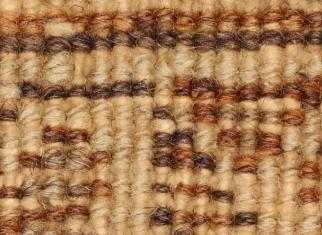Knot: (191, 133, 216, 152), (257, 63, 280, 82), (64, 114, 89, 131), (128, 169, 153, 186), (193, 92, 216, 110), (17, 52, 41, 69), (44, 69, 71, 84), (193, 116, 216, 133), (232, 197, 257, 212), (42, 193, 64, 210), (128, 191, 150, 208), (19, 99, 41, 116), (87, 199, 109, 216), (259, 47, 282, 63), (91, 133, 112, 150), (259, 116, 280, 133), (41, 169, 62, 186), (127, 216, 148, 233), (132, 48, 153, 65), (232, 157, 257, 171), (41, 112, 64, 127), (66, 95, 89, 110), (232, 171, 255, 186), (46, 52, 69, 67), (44, 20, 64, 37), (89, 99, 109, 116), (112, 116, 132, 133), (62, 216, 82, 233), (214, 157, 234, 174), (300, 135, 320, 152), (21, 122, 41, 139), (237, 16, 259, 31), (134, 16, 153, 33), (277, 201, 296, 218), (110, 47, 130, 63), (259, 97, 280, 112), (89, 22, 110, 37), (66, 131, 87, 146), (66, 152, 87, 167), (41, 84, 62, 99), (91, 116, 112, 131), (280, 16, 302, 30), (171, 63, 193, 77), (155, 16, 173, 33), (21, 195, 39, 212), (173, 95, 191, 112), (239, 52, 257, 69), (173, 193, 191, 210), (280, 133, 298, 150), (282, 45, 300, 62), (216, 69, 234, 86), (257, 182, 275, 199), (237, 116, 257, 131), (21, 20, 41, 35), (237, 69, 257, 84), (19, 35, 39, 50), (259, 80, 279, 95), (282, 30, 302, 45), (132, 65, 152, 80), (255, 218, 275, 233), (173, 154, 193, 169), (257, 165, 277, 180), (216, 50, 236, 65), (110, 65, 130, 80), (295, 221, 320, 233), (193, 33, 214, 47), (42, 129, 64, 142), (257, 141, 279, 154), (152, 152, 171, 167), (261, 30, 280, 45), (150, 210, 169, 225), (41, 218, 60, 233), (109, 201, 128, 216), (155, 33, 175, 47), (112, 16, 132, 30), (64, 203, 89, 214), (152, 118, 173, 131), (234, 212, 255, 225), (21, 1, 37, 18), (134, 116, 150, 133), (175, 16, 193, 31), (21, 139, 39, 154), (134, 95, 152, 110), (21, 84, 39, 99), (69, 169, 87, 184), (134, 135, 152, 150), (66, 1, 84, 16), (175, 135, 193, 150), (239, 84, 257, 99), (175, 116, 193, 131), (46, 37, 64, 52), (212, 199, 230, 214), (71, 37, 89, 52), (214, 174, 232, 189), (280, 152, 298, 167), (153, 135, 171, 150), (112, 95, 130, 110), (91, 84, 109, 99), (218, 131, 236, 146), (196, 48, 214, 63), (112, 135, 130, 150), (21, 218, 39, 233), (132, 148, 150, 163), (109, 218, 127, 233), (280, 167, 298, 182), (193, 63, 212, 77), (152, 63, 171, 77), (216, 18, 236, 31), (42, 154, 62, 167), (89, 71, 109, 84), (94, 52, 109, 69), (66, 184, 89, 195), (302, 110, 320, 124), (112, 31, 130, 45), (280, 112, 300, 124), (218, 114, 234, 129), (153, 193, 169, 208), (282, 95, 298, 110), (200, 1, 216, 16), (1, 172, 16, 188), (175, 33, 191, 48), (275, 221, 295, 233), (112, 184, 128, 199), (91, 218, 107, 233), (21, 171, 37, 186), (71, 52, 85, 69), (196, 18, 214, 31), (239, 99, 257, 112), (91, 184, 109, 197), (300, 201, 318, 214), (239, 35, 257, 48), (237, 141, 255, 154), (153, 94, 171, 107), (300, 94, 318, 107), (112, 82, 130, 95), (91, 37, 109, 50), (132, 82, 150, 95), (216, 99, 234, 112), (46, 5, 64, 18), (257, 201, 275, 214), (110, 169, 128, 182), (261, 18, 280, 30), (193, 157, 212, 169), (153, 169, 168, 184), (178, 169, 193, 184), (94, 167, 109, 182), (305, 30, 320, 45), (194, 171, 209, 186), (94, 152, 109, 167), (155, 48, 171, 62), (216, 37, 236, 48), (71, 20, 85, 35), (193, 199, 207, 214), (152, 107, 171, 118), (137, 35, 153, 48), (21, 156, 37, 169), (173, 82, 189, 95), (300, 176, 316, 189), (300, 161, 316, 174), (218, 86, 234, 99), (171, 212, 189, 223), (193, 77, 211, 88), (307, 13, 320, 28), (307, 60, 320, 75), (300, 189, 316, 201), (280, 71, 296, 82), (282, 84, 298, 95), (307, 45, 320, 58), (234, 225, 255, 233), (173, 223, 189, 233), (211, 225, 230, 233), (69, 86, 85, 95), (193, 223, 207, 233)
